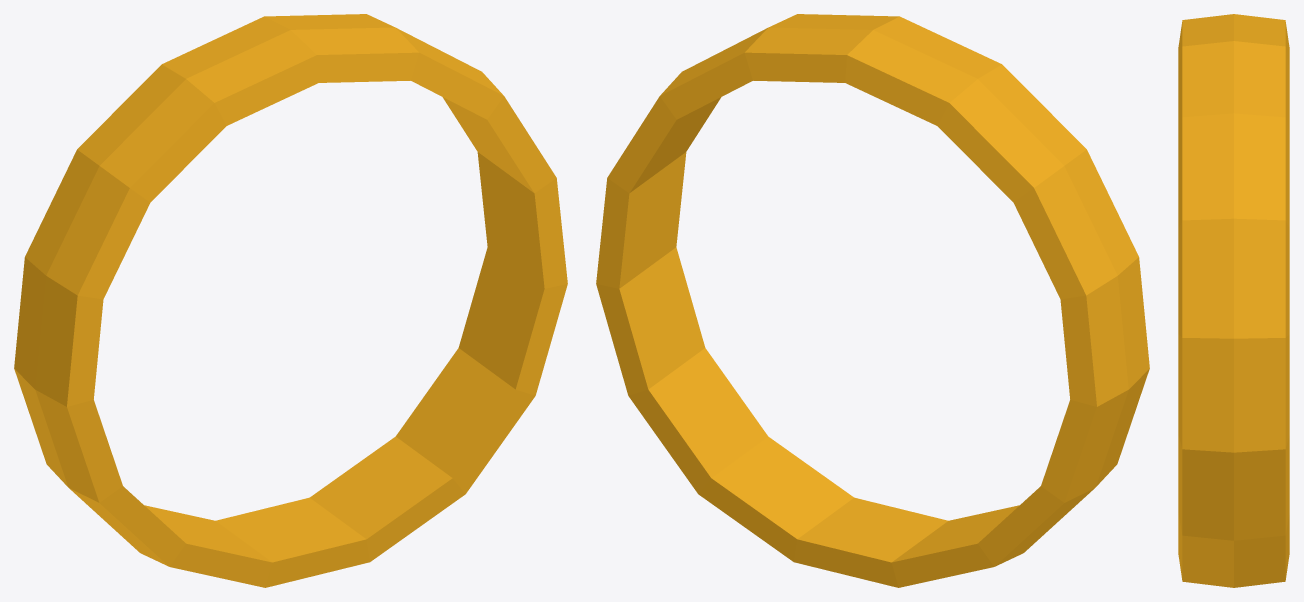
Rendered from ring1.glb.
3 views of the same model, side by side, from view 1: azimuth 30°, elevation 25°; view 2: azimuth 150°, elevation 25°; view 3: azimuth 270°, elevation 25° (orthographic). The views are drawn at different scales.
Parts seen in each view (by area): view 1: Ring1; view 2: Ring1; view 3: Ring1.
Boxes of the visible parts, left/top/right/bottom form: Ring1: left=14, top=14, right=567, bottom=587; Ring1: left=596, top=14, right=1149, bottom=587; Ring1: left=1178, top=14, right=1289, bottom=587.
Size of the model in its own units: 66.35 by 65.84 by 12.8.
